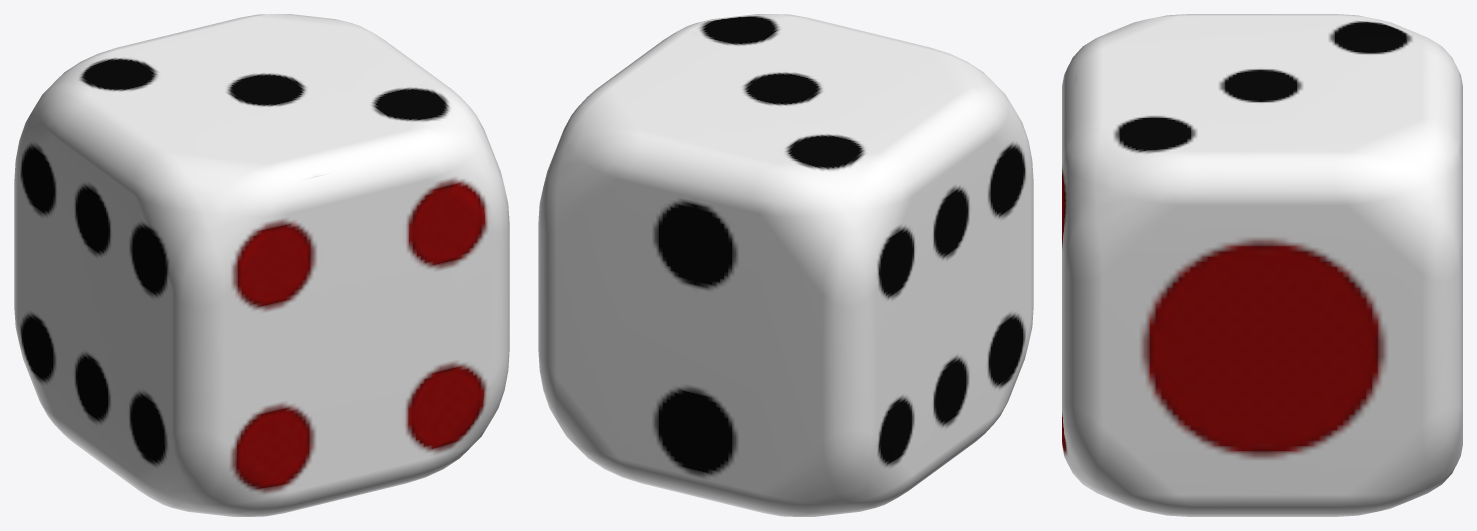
Rendered from shaizi.FBX.
3 views of the same model, side by side, from view 1: azimuth 30°, elevation 25°; view 2: azimuth 150°, elevation 25°; view 3: azimuth 270°, elevation 25° (orthographic). The views are drawn at different scales.
Parts seen in each view (by area): view 1: shazi; view 2: shazi; view 3: shazi.
Boxes of the visible parts, x1=… form: shazi: x1=14, y1=14, x2=509, y2=516; shazi: x1=538, y1=14, x2=1033, y2=516; shazi: x1=1062, y1=14, x2=1462, y2=516.
Bounding box in the file's own units: 12.19 × 12.19 × 12.19.
